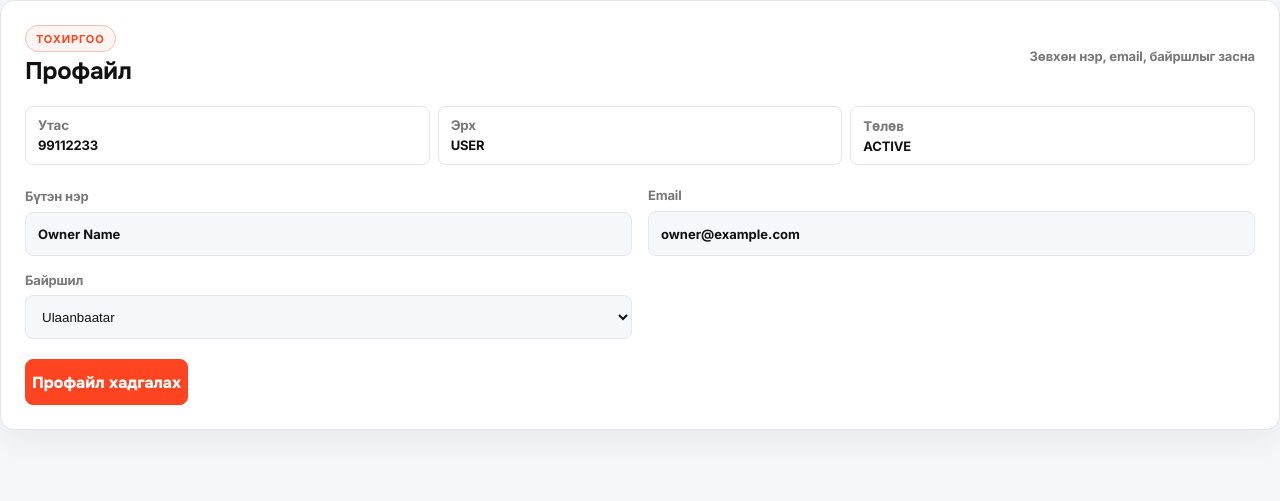
Test: ProfileForm › shows validation and API errors
The width and height of the screenshot is (1280, 501).
Replace the text in the field labelled "Бүтэн нэр" with "x" at (328,234), box x1=25 y1=212 x2=632 y2=256
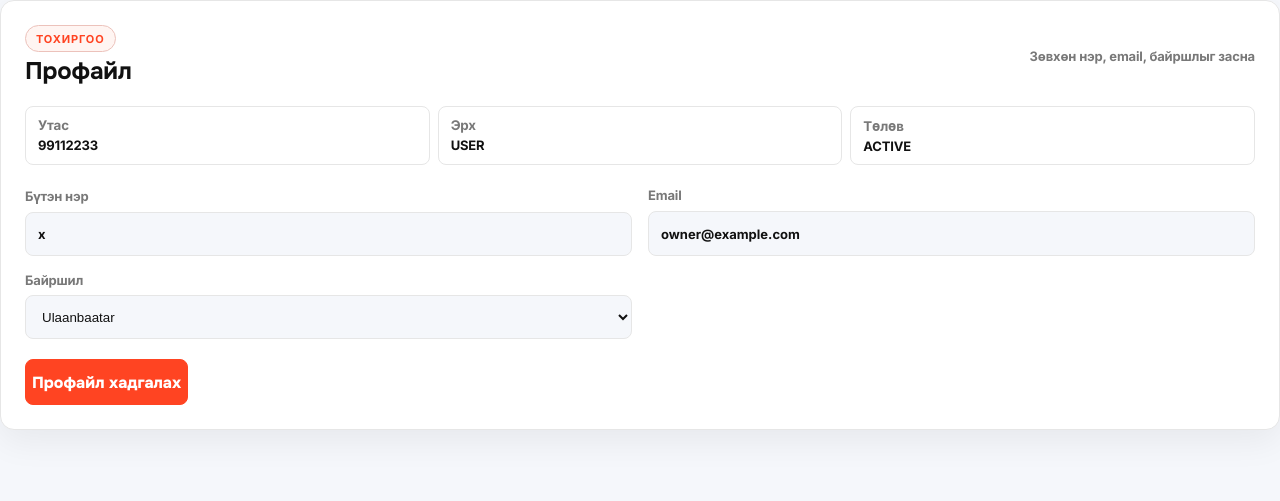
Submit the form named "Профайл засах"
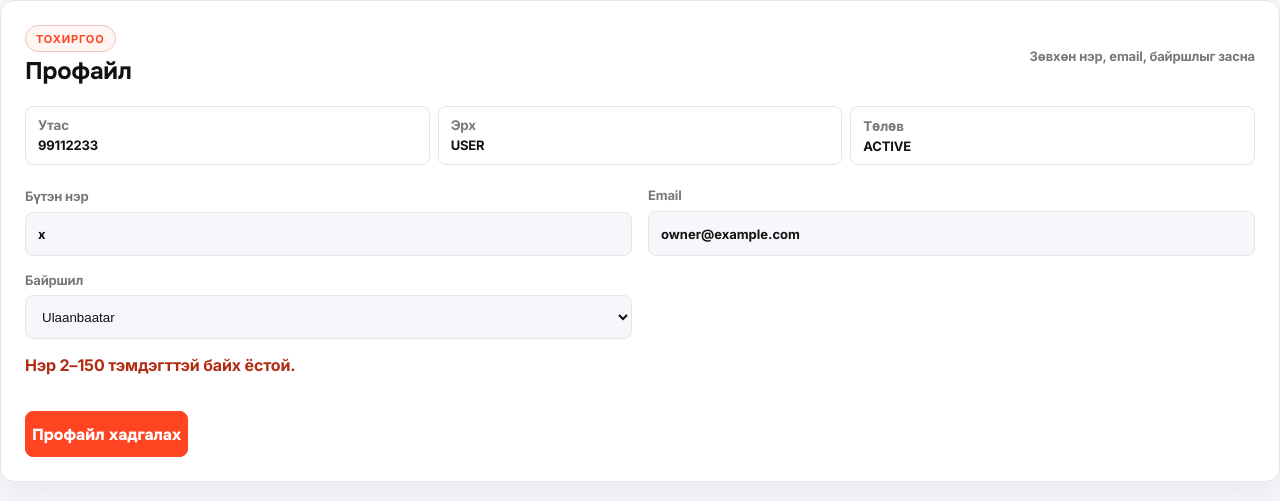
Expected: the message shows "2–150", x1=25 y1=355 x2=295 y2=375
Replace the text in the field labelled "Бүтэн нэр" with "Valid Owner" at (328,234), box x1=25 y1=212 x2=632 y2=256
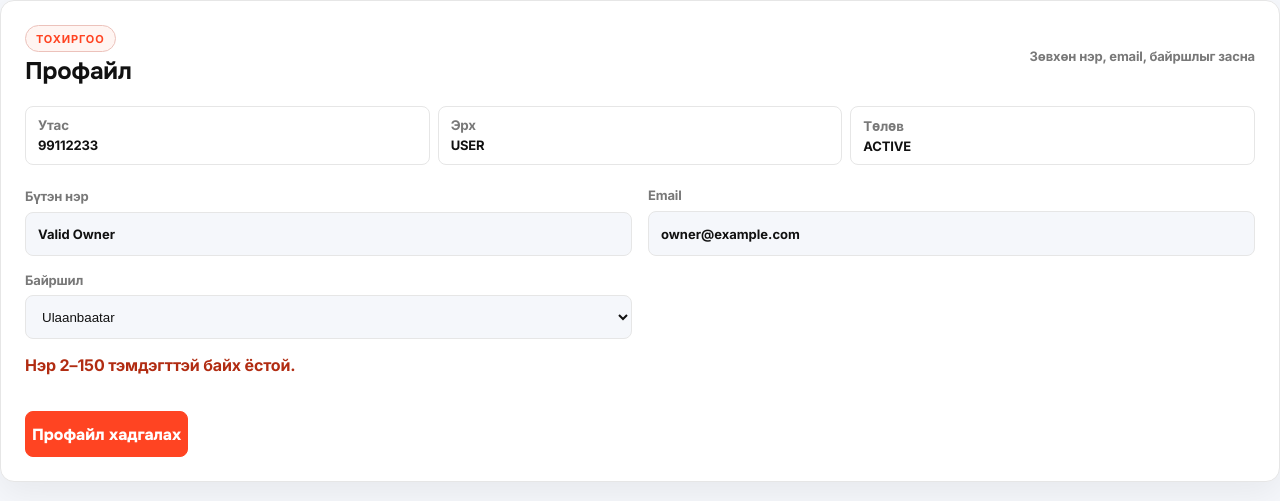
Submit the form named "Профайл засах"
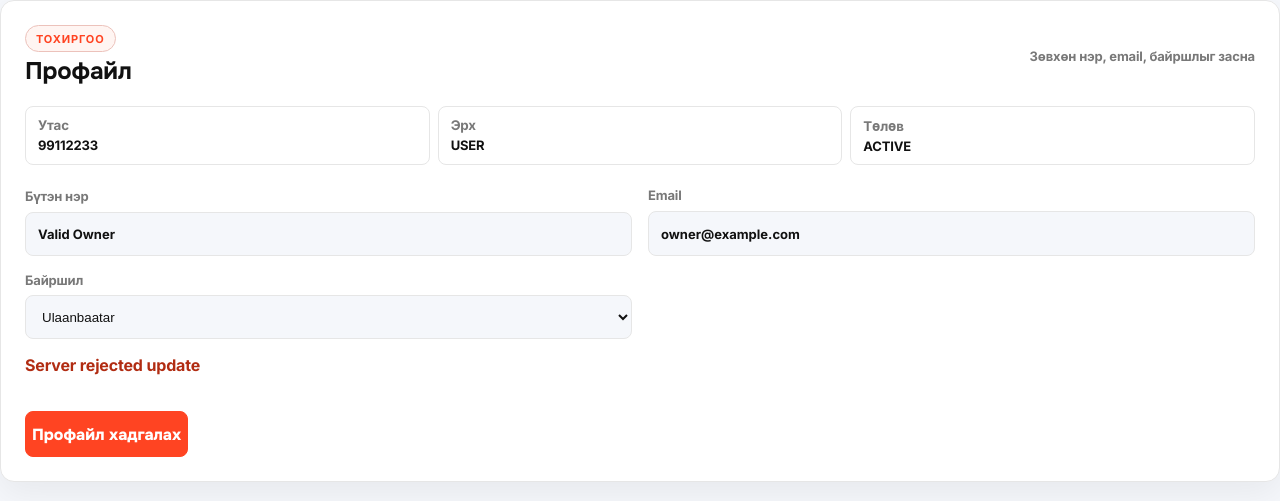
Expected: the message reads "Server rejected update", x1=25 y1=355 x2=200 y2=375
